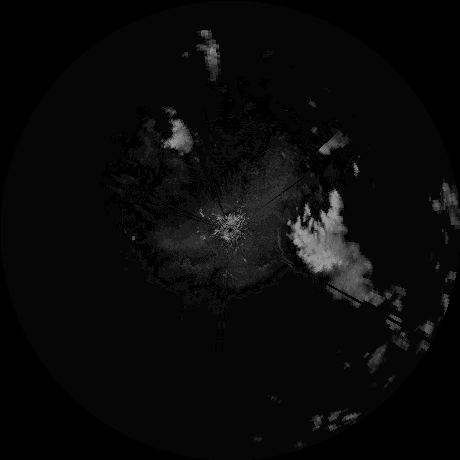frontgust: (274, 225, 295, 269)
